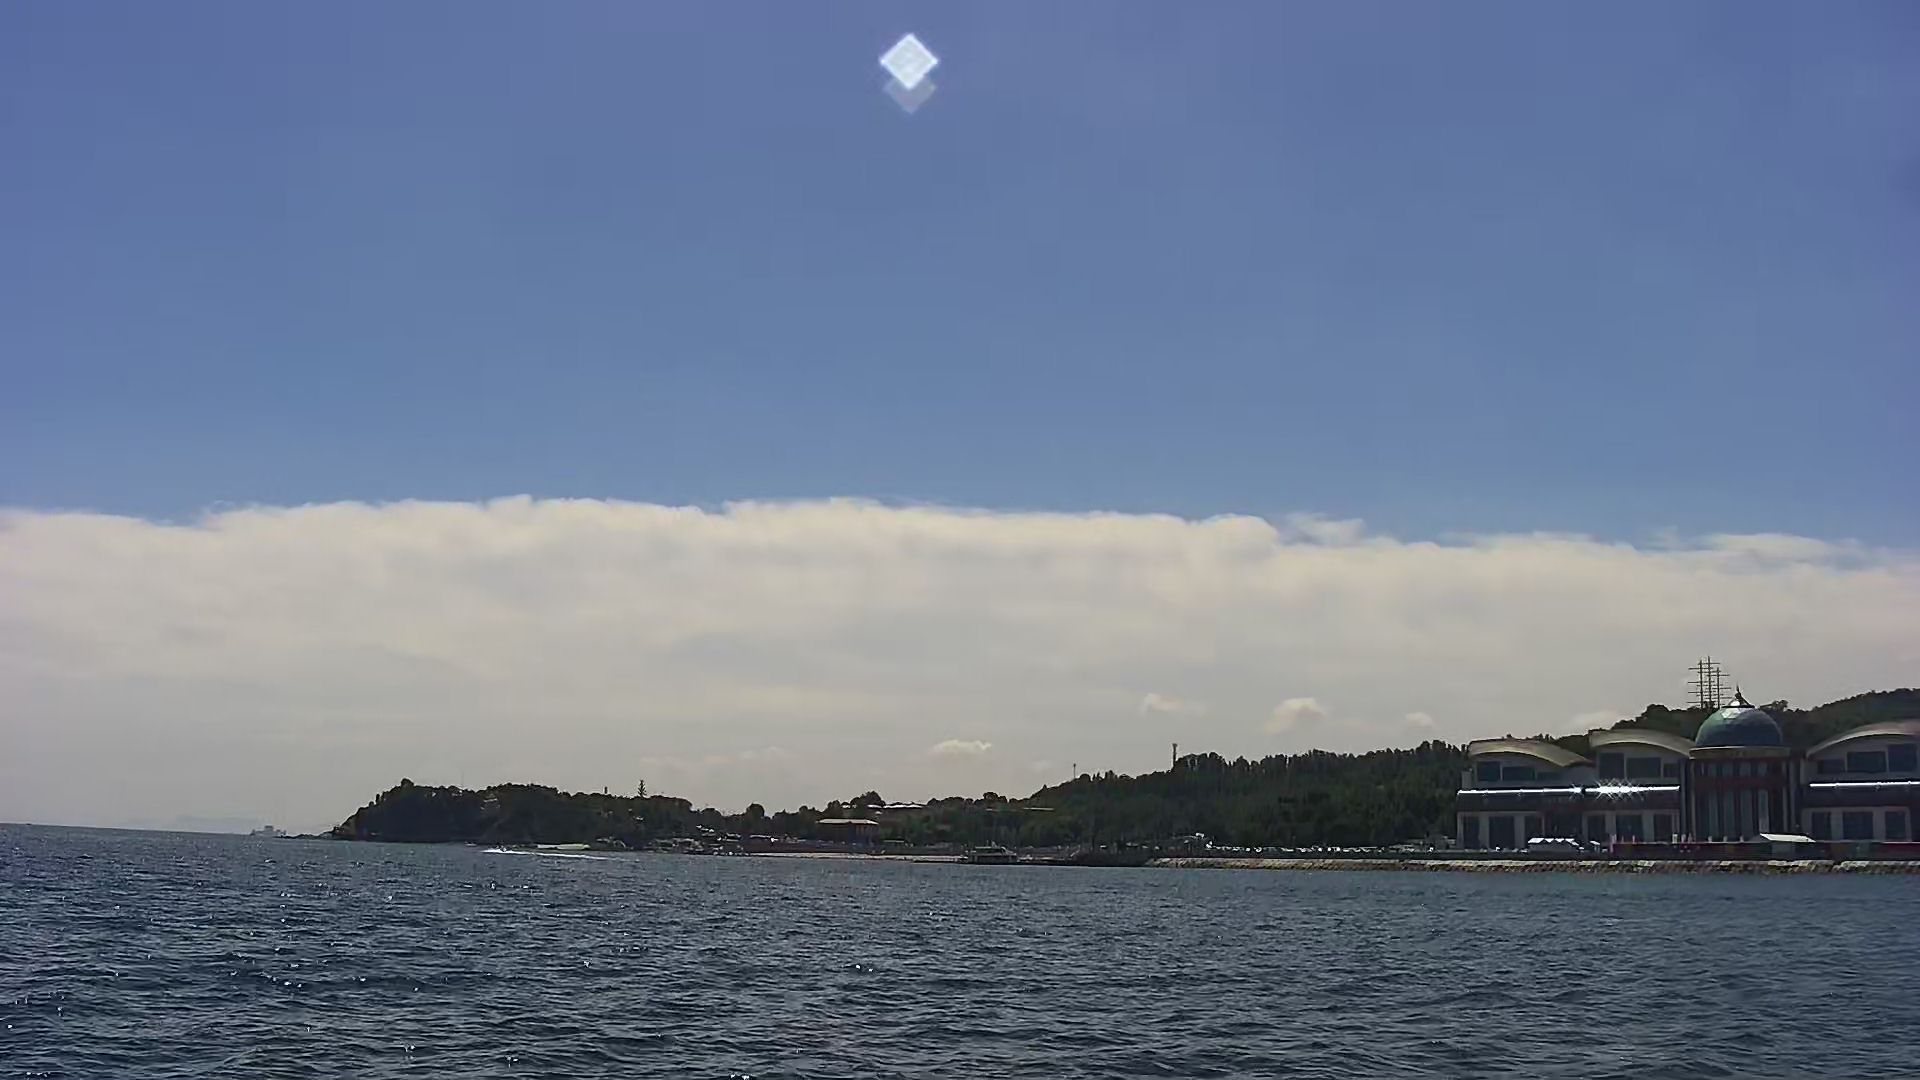boat: (1058, 831, 1167, 869), (945, 836, 1023, 872)
